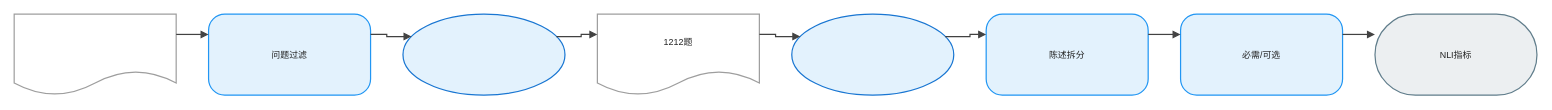
This 1552x110 diagram has some shape labels left out. Each missing label, with the centre of its shape:
医生复核: point (483, 54)
医生答案: point (872, 54)
患者问题: point (94, 54)
